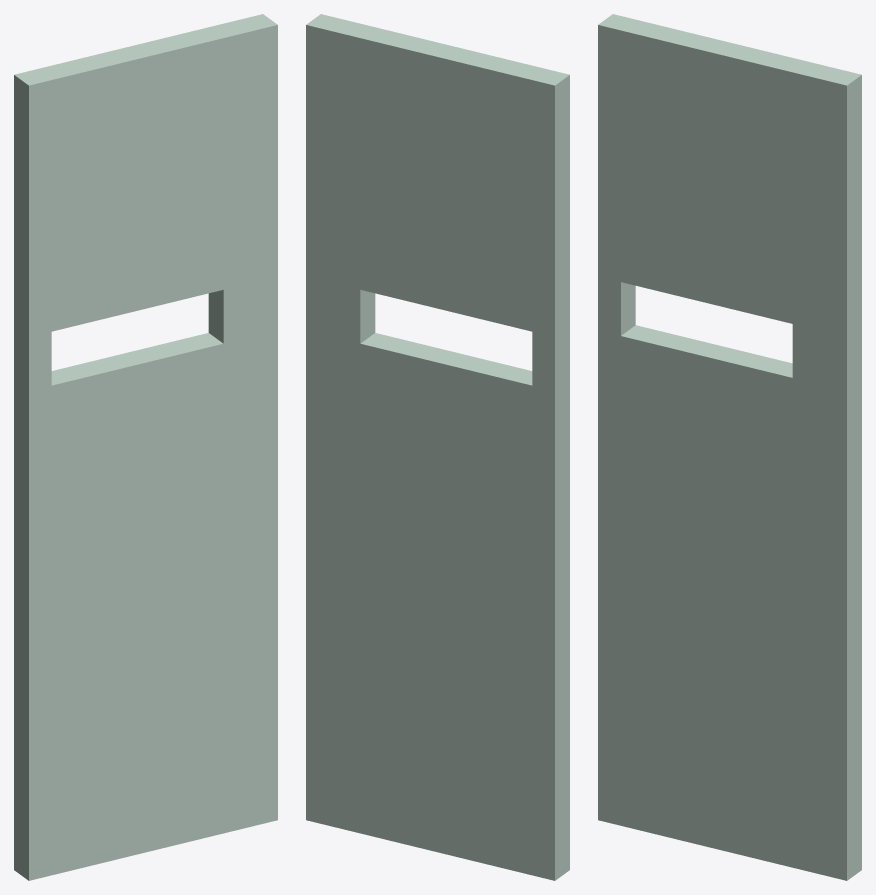
3 views of the same model, side by side, from view 1: azimuth 30°, elevation 25°; view 2: azimuth 150°, elevation 25°; view 3: azimuth 330°, elevation 25° (orthographic).
Parts seen in each view (by area): view 1: 1ignMufqn9zBu9A$JUkizs_h2372; view 2: 1ignMufqn9zBu9A$JUkizs_h2372; view 3: 1ignMufqn9zBu9A$JUkizs_h2372.
Boxes of the visible parts, x1=… form: 1ignMufqn9zBu9A$JUkizs_h2372: x1=14, y1=14, x2=277, y2=880; 1ignMufqn9zBu9A$JUkizs_h2372: x1=306, y1=14, x2=569, y2=880; 1ignMufqn9zBu9A$JUkizs_h2372: x1=598, y1=14, x2=861, y2=880.
Size of the model in its own units: 1.45 by 4.43 by 0.15.
